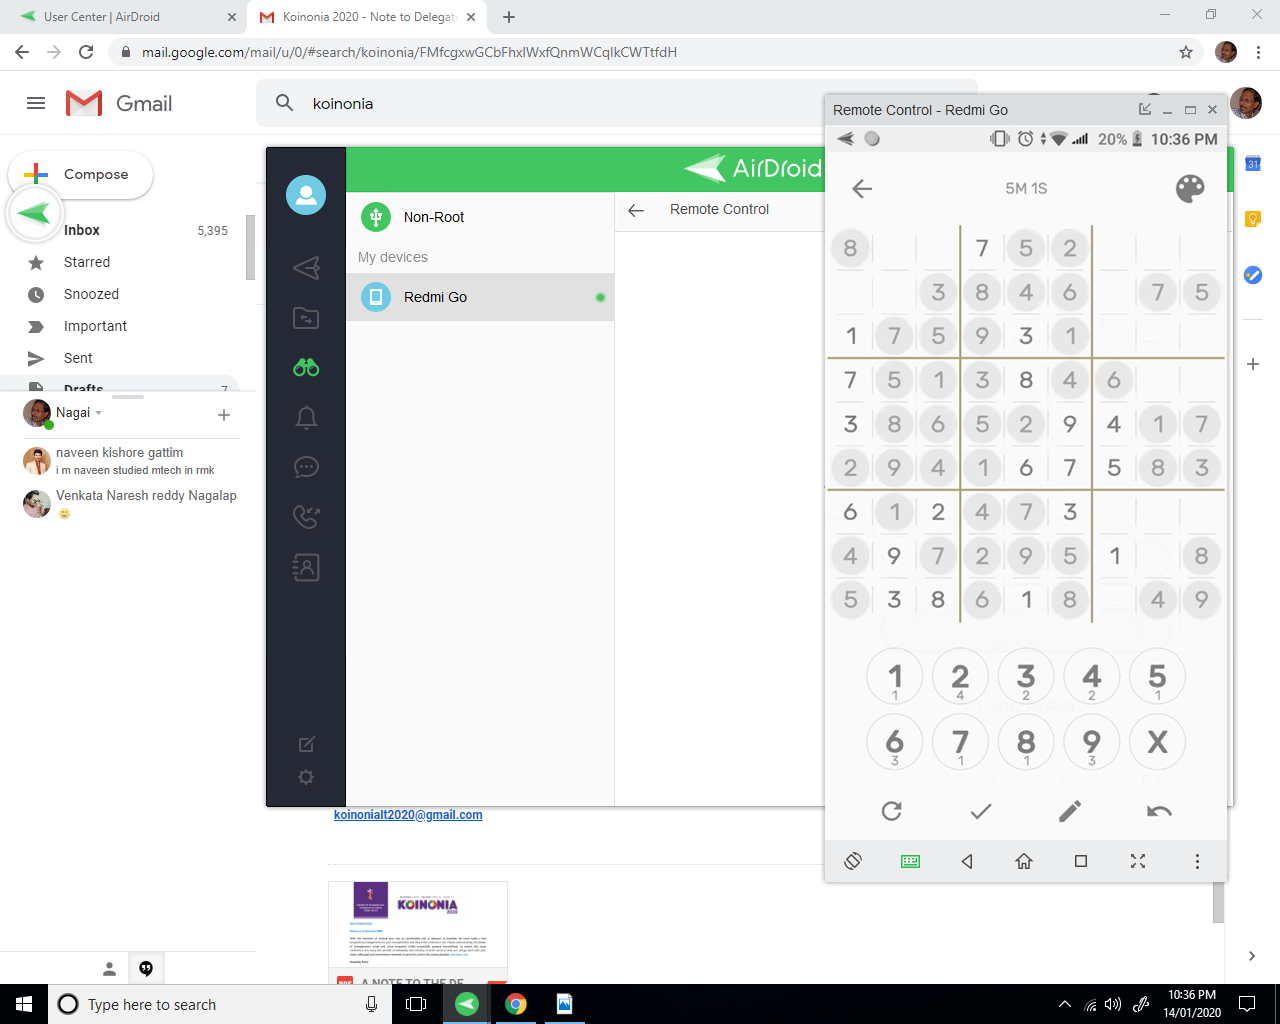box: (825, 125, 1229, 840)
